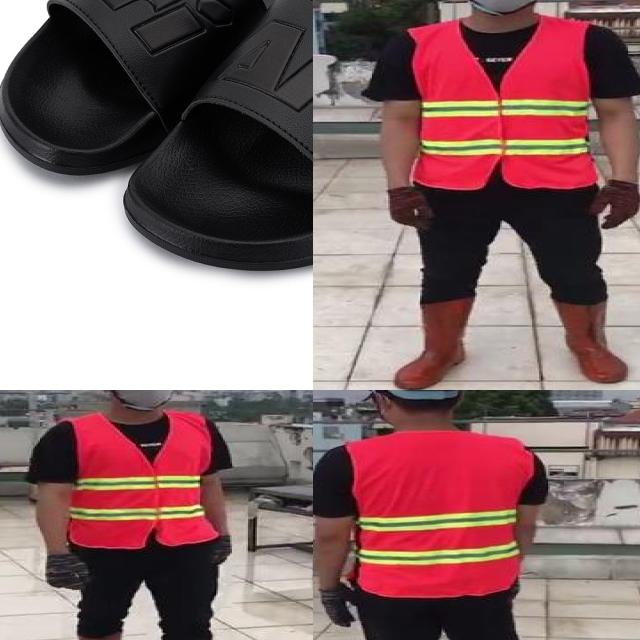Sandals: (0, 0, 313, 290)
boots: (548, 300, 632, 384), (397, 300, 475, 388)
face_mask: (110, 390, 181, 409), (454, 0, 550, 12)
hand_glove: (589, 181, 640, 230), (384, 188, 434, 227), (315, 587, 363, 626), (47, 554, 86, 589), (214, 533, 234, 564), (509, 576, 521, 605)
person: (359, 0, 640, 390), (313, 390, 564, 640), (20, 390, 255, 640)
vest: (408, 18, 602, 189), (346, 432, 528, 596), (60, 414, 214, 548)
